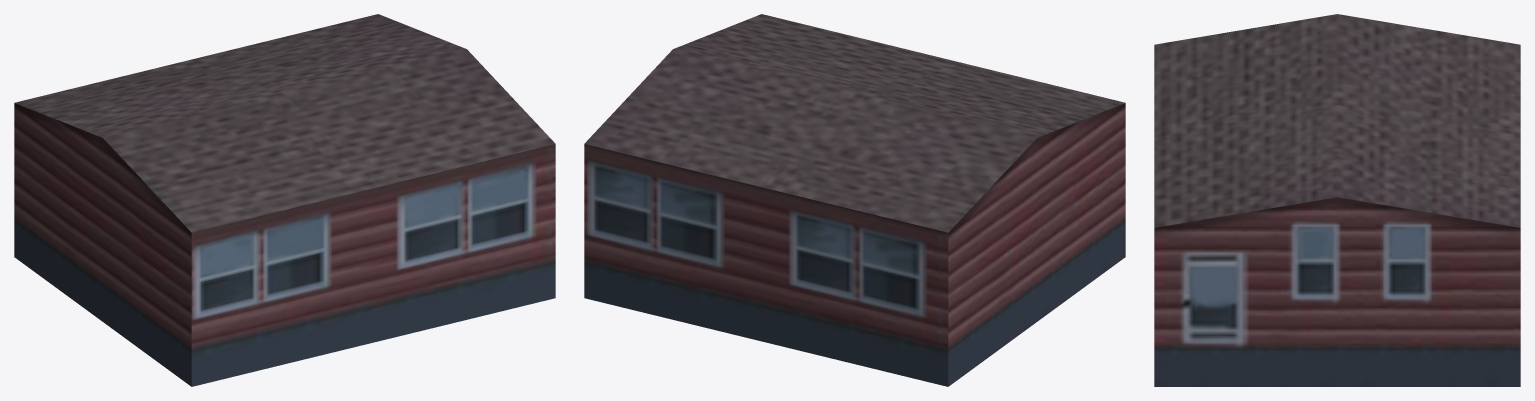
File: BiggerHouse.fbx
The picture shows the model from 3 angles, left to right: view 1: azimuth 30°, elevation 25°; view 2: azimuth 150°, elevation 25°; view 3: azimuth 270°, elevation 25°; orthographic projection. The views are drawn at different scales.
Visible parts, largest first — view 1: House1; view 2: House1; view 3: House1.
Part boxes in pixels (x1,y1,x2,y2): House1: (14,14,555,386); House1: (584,14,1125,386); House1: (1154,14,1520,386).
Size of the model in its own units: 73.55 by 35.51 by 62.13.
